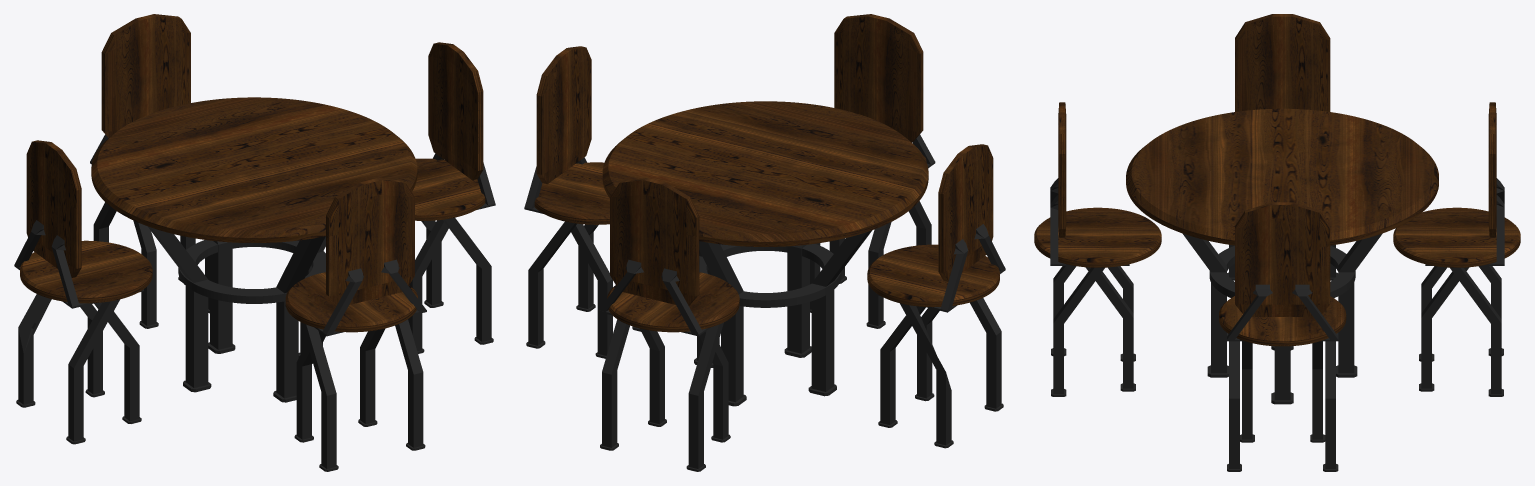
Rendered from table_2__chairs.glb.
The picture shows the model from 3 angles, left to right: view 1: azimuth 30°, elevation 25°; view 2: azimuth 150°, elevation 25°; view 3: azimuth 270°, elevation 25°; orthographic projection. The views are drawn at different scales.
Visible parts, largest first — view 1: Cylinder_0, Cube.035_41, Cube.020_25, Cube.012_16, Cube.011_13, Cylinder.001_11, Cylinder.005_33, Cube.007_4, Cylinder.003_15, Cube.001_5, Cylinder.002_2, Cube.006_8 (+17 smaller); view 2: Cylinder_0, Cube.020_25, Cube.035_41, Cube.012_16, Cube.011_13, Cylinder.001_11, Cylinder.004_24, Cylinder.003_15, Cube.007_4, Cube.004_1, Cylinder.002_2, Cube.024_29 (+17 smaller); view 3: Cylinder_0, Cube.012_16, Cube.011_13, Cylinder.005_33, Cylinder.004_24, Cylinder.003_15, Cube.004_1, Cube.001_5, Cube.023_28, Cube.032_38, Cube.026_31, Cube.029_35 (+16 smaller).
Boxes of the visible parts, x1=… form: Cylinder_0: x1=91, y1=97, x2=417, y2=242; Cube.035_41: x1=326, y1=178, x2=414, y2=305; Cube.020_25: x1=101, y1=14, x2=190, y2=137; Cube.012_16: x1=428, y1=42, x2=483, y2=180; Cube.011_13: x1=26, y1=140, x2=81, y2=277; Cylinder.001_11: x1=20, y1=240, x2=152, y2=303; Cylinder.005_33: x1=285, y1=272, x2=417, y2=332; Cube.007_4: x1=148, y1=226, x2=211, y2=392; Cylinder.003_15: x1=412, y1=158, x2=485, y2=220; Cube.001_5: x1=273, y1=236, x2=325, y2=402; Cylinder.002_2: x1=178, y1=240, x2=325, y2=303; Cube.006_8: x1=66, y1=299, x2=119, y2=444; Cylinder_0: x1=602, y1=101, x2=928, y2=246; Cube.020_25: x1=610, y1=178, x2=699, y2=305; Cube.035_41: x1=834, y1=14, x2=923, y2=142; Cube.012_16: x1=536, y1=46, x2=591, y2=183; Cube.011_13: x1=938, y1=144, x2=993, y2=281; Cylinder.001_11: x1=867, y1=244, x2=999, y2=307; Cylinder.004_24: x1=607, y1=272, x2=739, y2=332; Cylinder.003_15: x1=534, y1=162, x2=609, y2=224; Cube.007_4: x1=808, y1=230, x2=872, y2=396; Cube.004_1: x1=699, y1=241, x2=746, y2=406; Cylinder.002_2: x1=699, y1=244, x2=841, y2=307; Cube.024_29: x1=686, y1=322, x2=723, y2=471; Cylinder_0: x1=1126, y1=108, x2=1438, y2=245; Cube.012_16: x1=1235, y1=202, x2=1330, y2=316; Cube.011_13: x1=1235, y1=14, x2=1330, y2=111; Cylinder.005_33: x1=1034, y1=207, x2=1161, y2=267; Cylinder.004_24: x1=1393, y1=207, x2=1520, y2=267; Cylinder.003_15: x1=1219, y1=296, x2=1346, y2=346; Cube.004_1: x1=1336, y1=233, x2=1382, y2=377; Cube.001_5: x1=1182, y1=233, x2=1228, y2=377; Cube.023_28: x1=1450, y1=267, x2=1503, y2=396; Cube.032_38: x1=1051, y1=267, x2=1104, y2=396; Cube.026_31: x1=1419, y1=267, x2=1469, y2=391; Cube.029_35: x1=1085, y1=267, x2=1135, y2=391.
Size of the model in its own units: 4.8 by 2.79 by 4.66.
30 materials, 5 textured.
